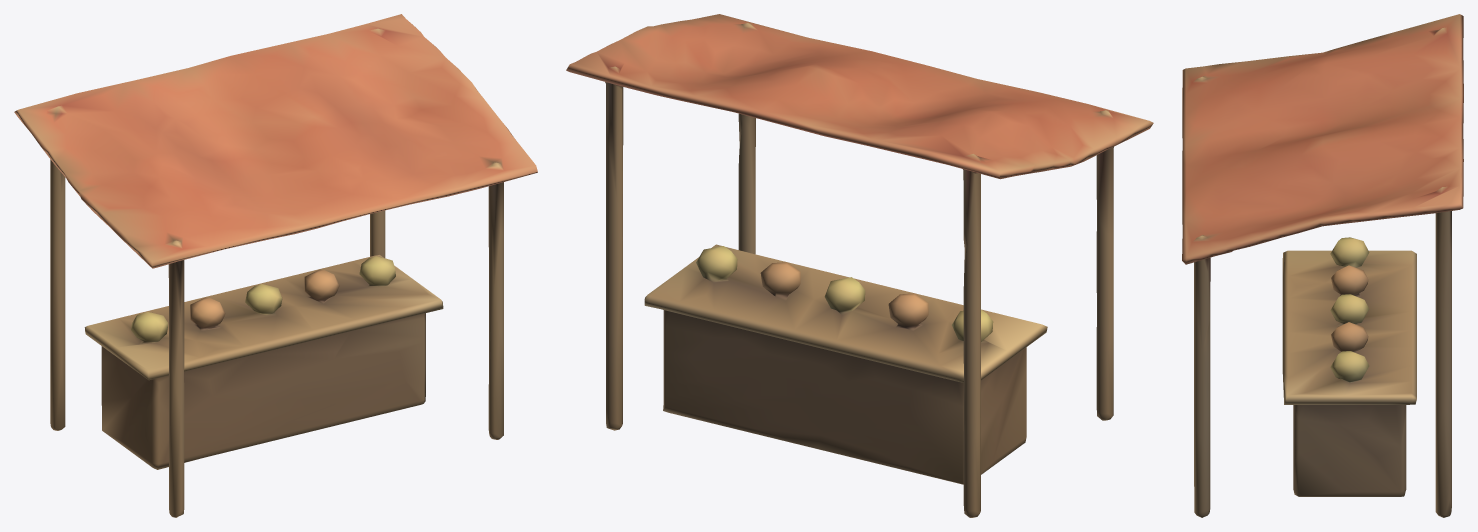
The model's file is env_se_stall.glb.
3 renders of one model, left to right at view 1: azimuth 30°, elevation 25°; view 2: azimuth 150°, elevation 25°; view 3: azimuth 270°, elevation 25°, orthographic. The views are drawn at different scales.
Visible parts, largest first — view 1: geometry_0; view 2: geometry_0; view 3: geometry_0.
Boxes of the visible parts, x1,y1,x2,y2 form: geometry_0: (14, 14, 537, 517); geometry_0: (566, 14, 1153, 517); geometry_0: (1182, 14, 1463, 517).
Size of the model in its own units: 3.41 by 2.72 by 2.1.
